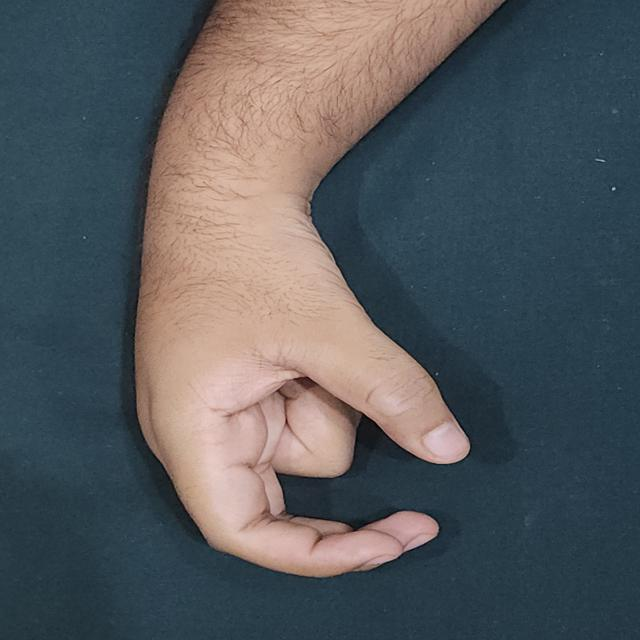ٹ: (116, 162, 496, 600)
